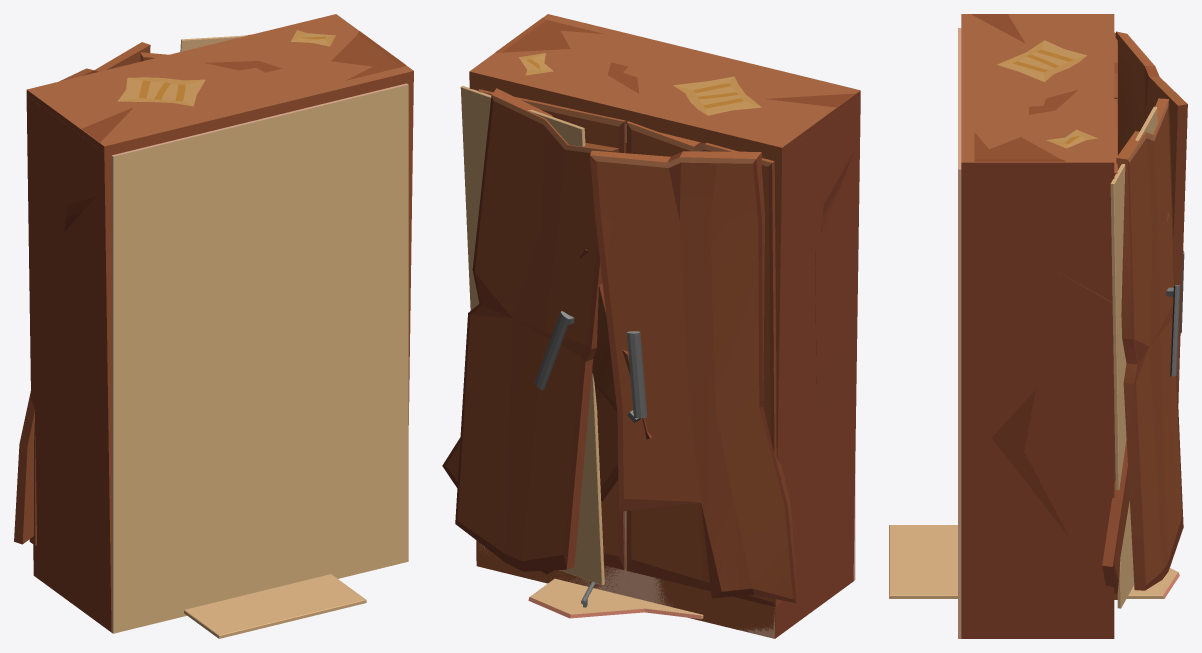
Rendered from Wardrobe1.fbx.
The picture shows the model from 3 angles, left to right: view 1: azimuth 30°, elevation 25°; view 2: azimuth 150°, elevation 25°; view 3: azimuth 270°, elevation 25°; orthographic projection. The views are drawn at different scales.
Visible parts, largest first — view 1: WardrobeWood1.5, WardrobeWood1.2, WardrobeWood1.1, WardrobeWood1.4, WardrobeWoodDetail1.2; view 2: WardrobeWood1.2, WardrobeWood1.1, WardrobeWood1.4, WardrobeWood1.3, WardrobeWoodDetail1.2; view 3: WardrobeWood1.2, WardrobeWood1.1, WardrobeWood1.4, WardrobeWoodDetail1.2, WardrobeWood1.3, WardrobeWood1.5.
Boxes of the visible parts, bbox=[...] form: WardrobeWood1.5: bbox=[111, 83, 408, 633]; WardrobeWood1.2: bbox=[14, 31, 413, 632]; WardrobeWood1.1: bbox=[26, 14, 413, 630]; WardrobeWood1.4: bbox=[26, 96, 121, 631]; WardrobeWoodDetail1.2: bbox=[184, 574, 366, 638]; WardrobeWood1.2: bbox=[455, 18, 860, 638]; WardrobeWood1.1: bbox=[469, 14, 860, 632]; WardrobeWood1.4: bbox=[442, 97, 860, 636]; WardrobeWood1.3: bbox=[460, 86, 774, 638]; WardrobeWoodDetail1.2: bbox=[528, 578, 703, 619]; WardrobeWood1.2: bbox=[961, 31, 1187, 638]; WardrobeWood1.1: bbox=[961, 14, 1117, 638]; WardrobeWood1.4: bbox=[961, 212, 1175, 638]; WardrobeWoodDetail1.2: bbox=[889, 525, 1179, 598]; WardrobeWood1.3: bbox=[1110, 106, 1157, 608]; WardrobeWood1.5: bbox=[958, 28, 961, 638].
Size of the model in its own units: 270 by 362 by 202.
